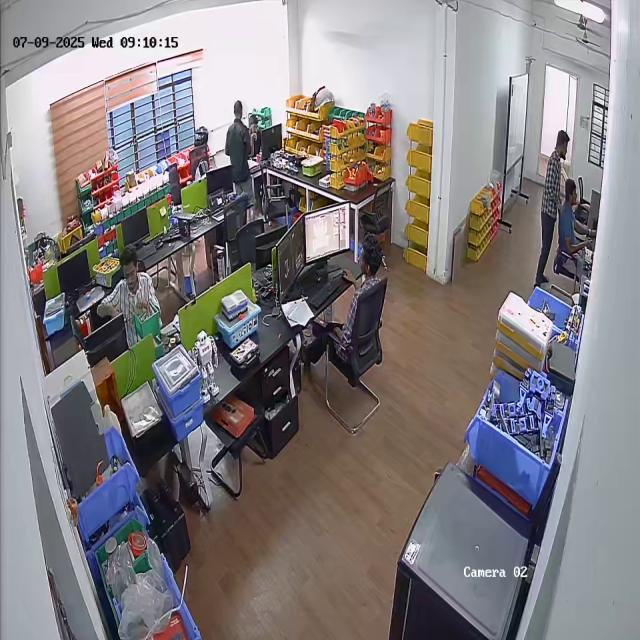person: (328, 232, 387, 357), (538, 124, 570, 288), (104, 248, 155, 340), (222, 100, 254, 214), (563, 177, 594, 260)
